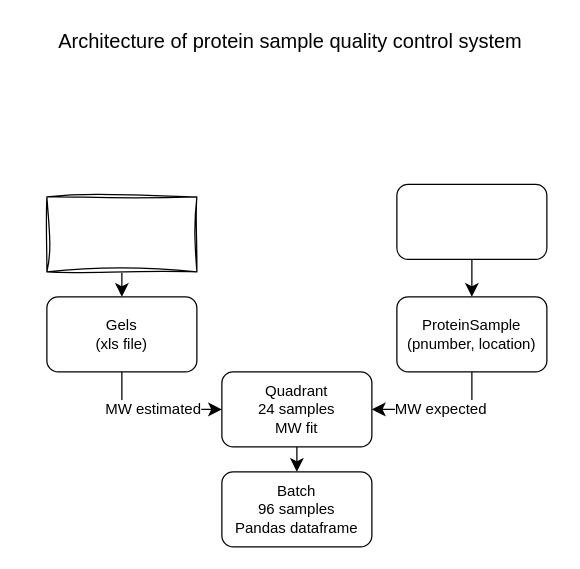
Image size: 580x569. Some labels were removed from this diagram. Each missing label, with the box of its shape:
Gel Imager: (46, 196, 197, 272)
Sample (concentration, volume): (396, 183, 547, 259)
